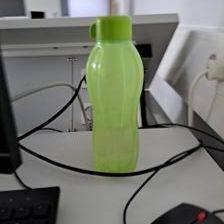bottle: (81, 15, 147, 176)
